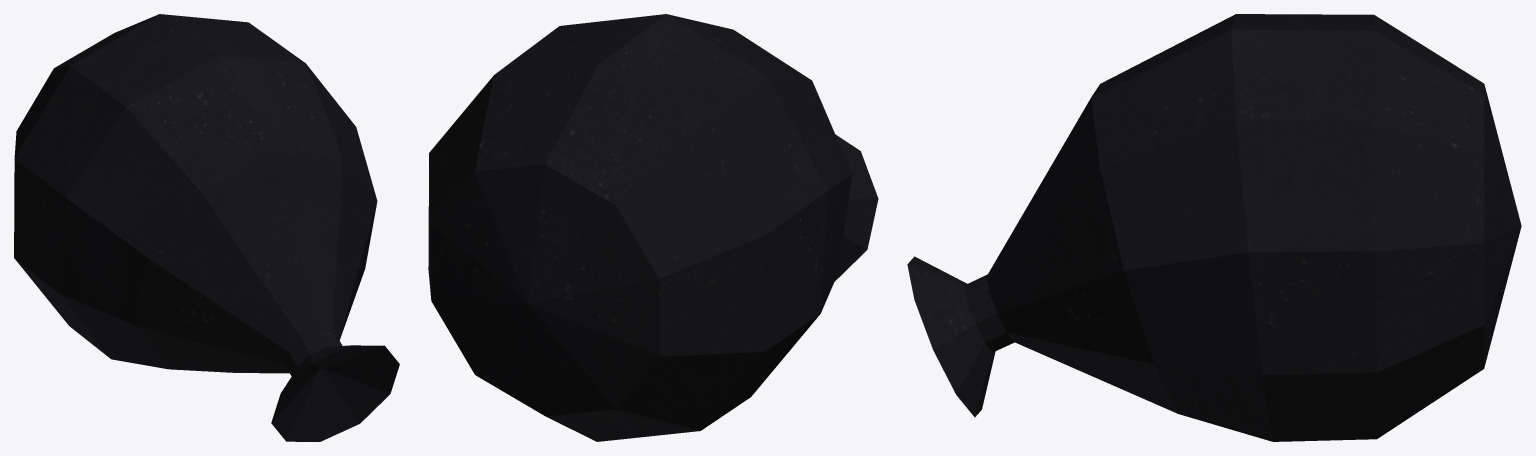
File: TrashBag4.fbx
The picture shows the model from 3 angles, left to right: view 1: azimuth 30°, elevation 25°; view 2: azimuth 150°, elevation 25°; view 3: azimuth 270°, elevation 25°; orthographic projection. The views are drawn at different scales.
Parts seen in each view (by area): view 1: Trashbag4; view 2: Trashbag4; view 3: Trashbag4.
Boxes of the visible parts, bbox=[...] form: Trashbag4: bbox=[14, 14, 399, 441]; Trashbag4: bbox=[428, 14, 878, 441]; Trashbag4: bbox=[907, 14, 1521, 441].
Size of the model in its own units: 28.18 by 42.33 by 30.18.
